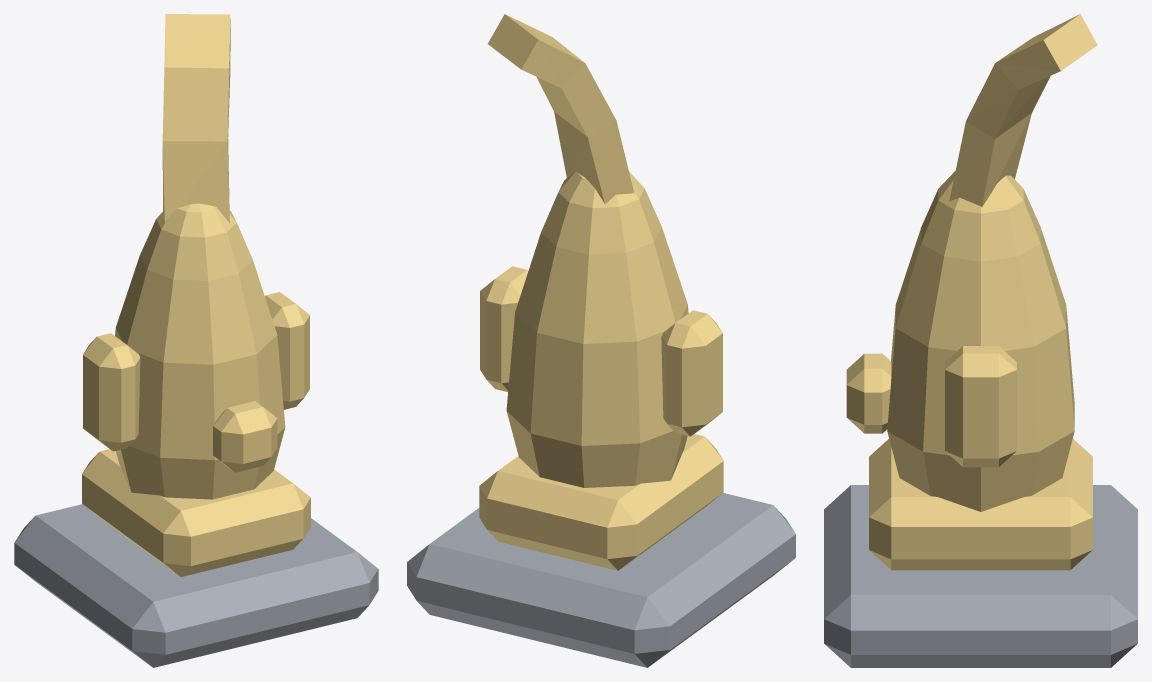
File: feudal-japan-castle-town-ridge-ornament-shachi-1b605038__26604.glb
3 renders of one model, left to right at view 1: azimuth 30°, elevation 25°; view 2: azimuth 150°, elevation 25°; view 3: azimuth 270°, elevation 25°, orthographic. The views are drawn at different scales.
Visible parts, largest first — view 1: ridge-ornament-shachi; view 2: ridge-ornament-shachi; view 3: ridge-ornament-shachi.
Boxes of the visible parts, left/top/right/bottom form: ridge-ornament-shachi: left=14, top=14, right=378, bottom=667; ridge-ornament-shachi: left=407, top=14, right=795, bottom=667; ridge-ornament-shachi: left=824, top=14, right=1137, bottom=667.
Bounding box in the file's own units: 0.7 × 1.49 × 0.7.
